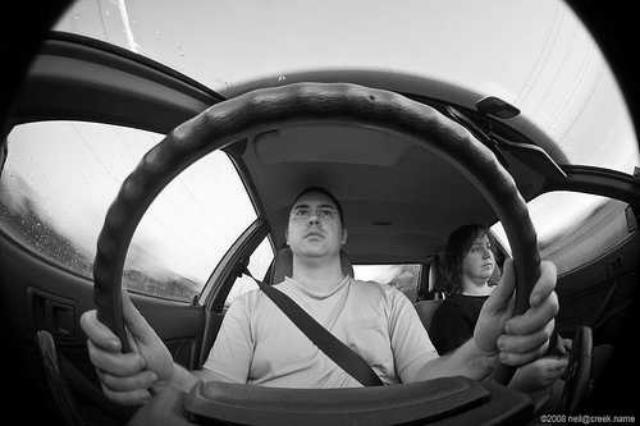SafeDriving: (292, 204, 311, 218), (317, 206, 335, 219)
Seatbelt: (238, 256, 388, 388)
